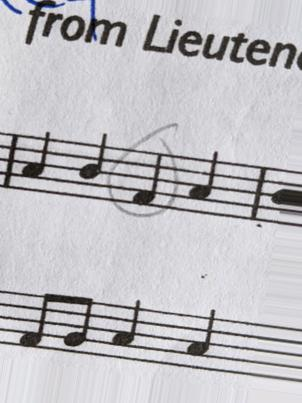A: (186, 149, 222, 229), (18, 129, 53, 206), (182, 306, 219, 374), (111, 296, 142, 368)
B: (77, 134, 109, 205)
F: (130, 149, 164, 215)
